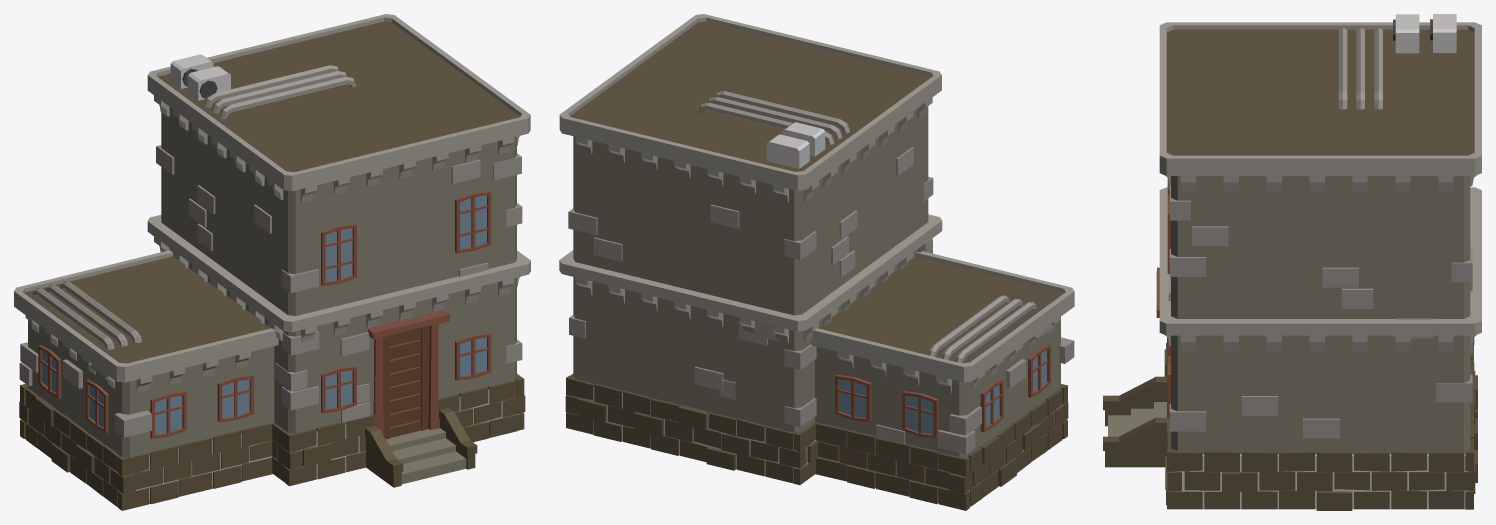
Rendered from 2Story Sidehouse.glb.
3 views of the same model, side by side, from view 1: azimuth 30°, elevation 25°; view 2: azimuth 150°, elevation 25°; view 3: azimuth 270°, elevation 25° (orthographic). The views are drawn at different scales.
Parts seen in each view (by area): view 1: 2Story_Sidehouse; view 2: 2Story_Sidehouse; view 3: 2Story_Sidehouse.
Boxes of the visible parts, <box> form: 2Story_Sidehouse: <box>14,14,530,510</box>; 2Story_Sidehouse: <box>559,14,1074,510</box>; 2Story_Sidehouse: <box>1103,14,1481,510</box>.
Size of the model in its own units: 8.32 by 6.62 by 6.08.
Materials: 1 (1 with a texture image).
